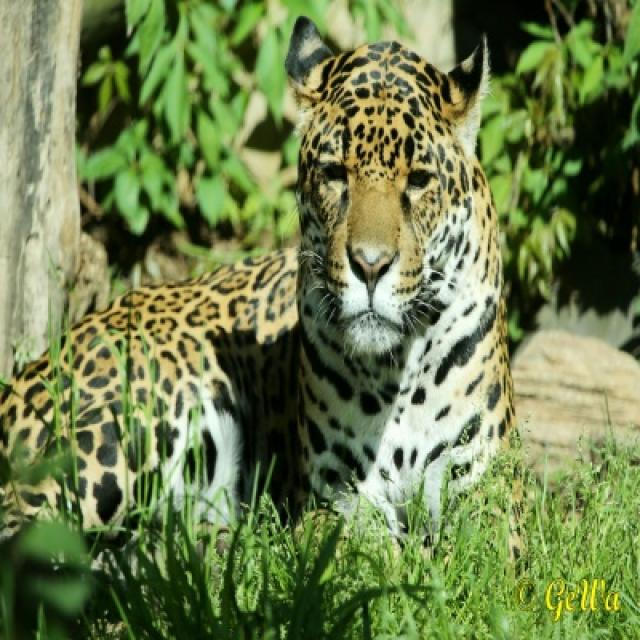Jaguar: (0, 21, 517, 638)
